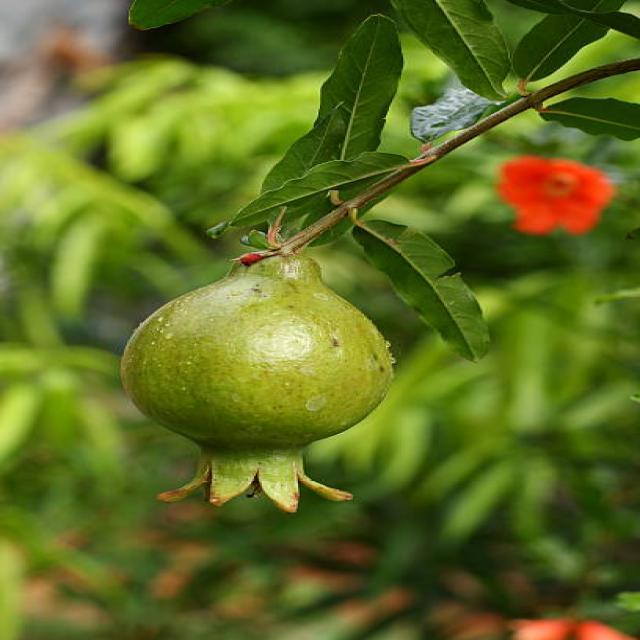Unripe: (116, 242, 392, 510)
